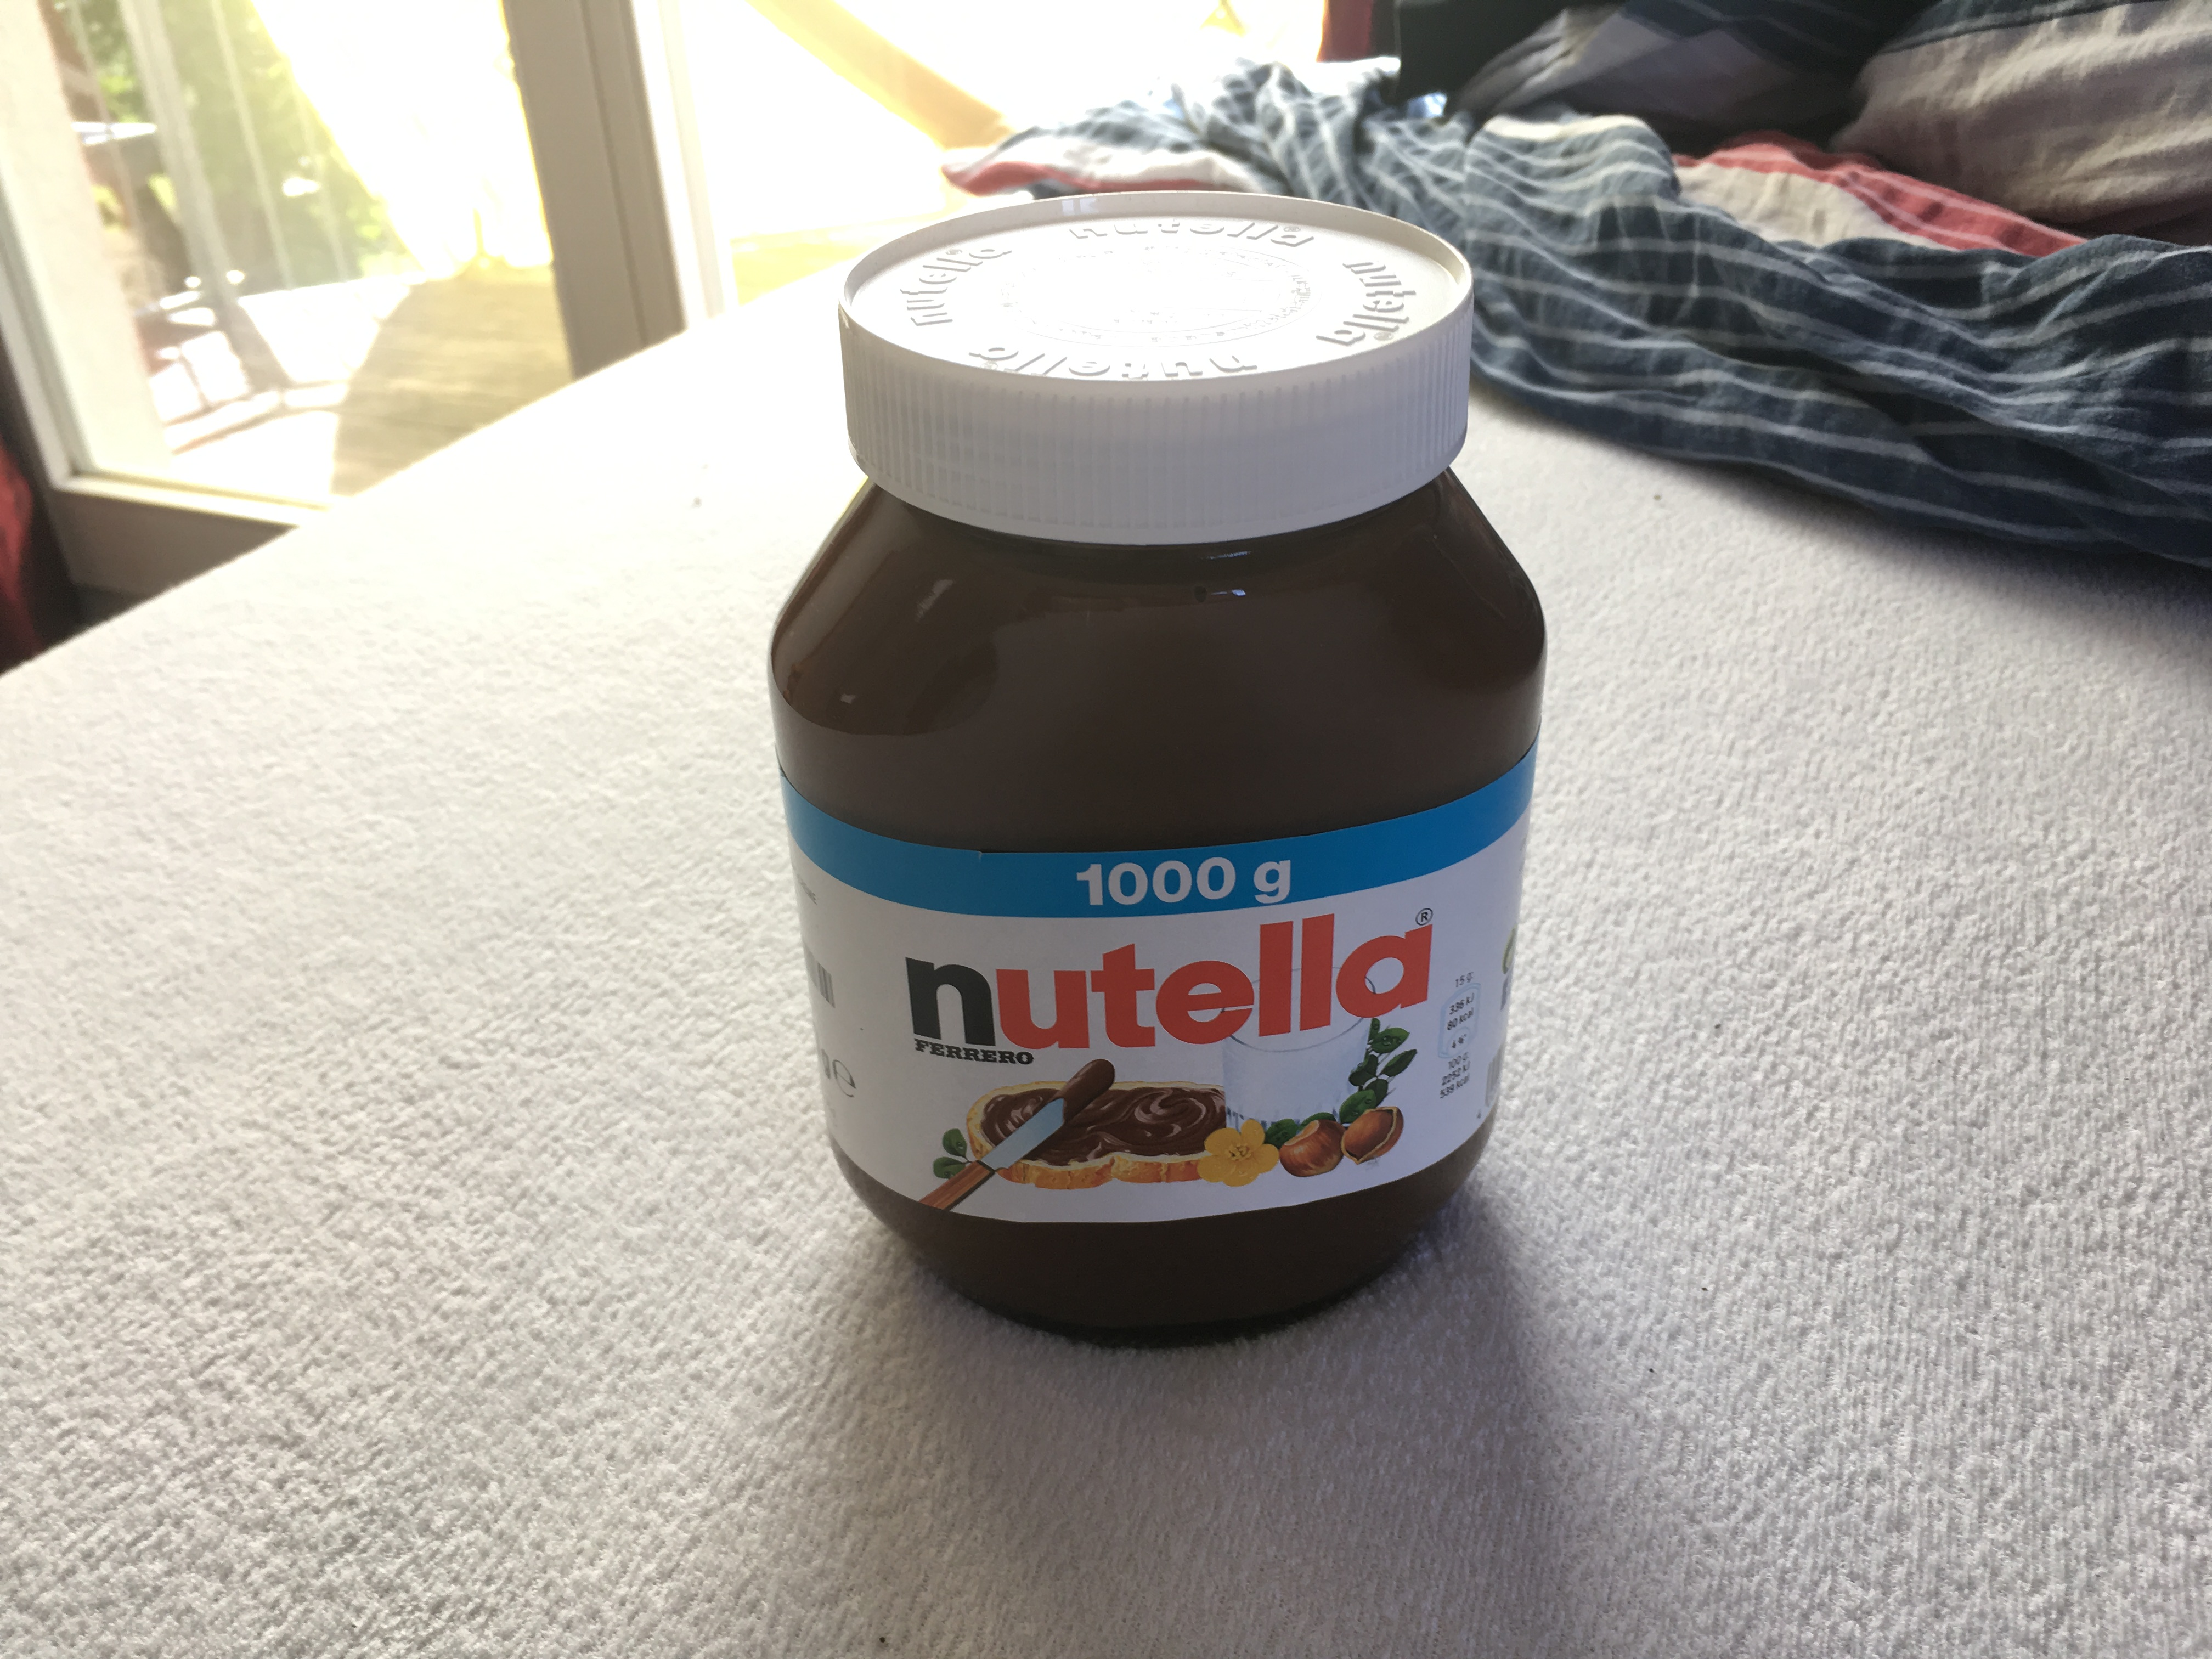nutella: (765, 185, 1550, 1361)
